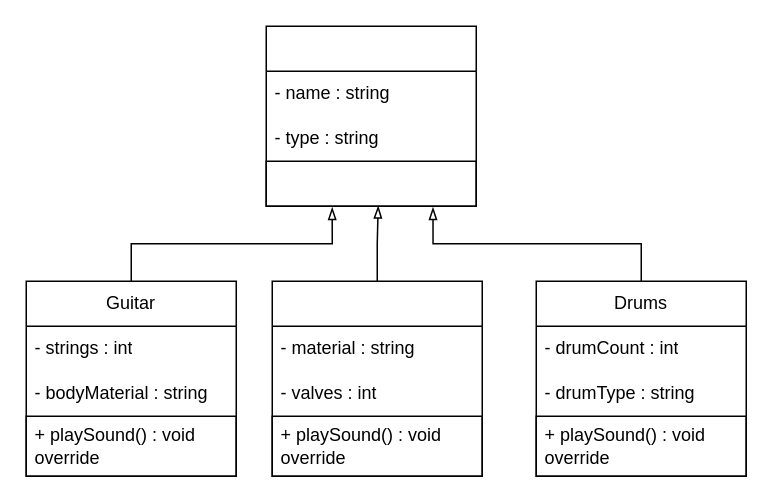
This 773x503 diagram has some shape labels left out. Each missing label, with the box of its shape:
+ playSound() : void: (265, 160, 476, 206)
Musical Instrument: (265, 25, 476, 206)
Trompete: (271, 280, 482, 476)
